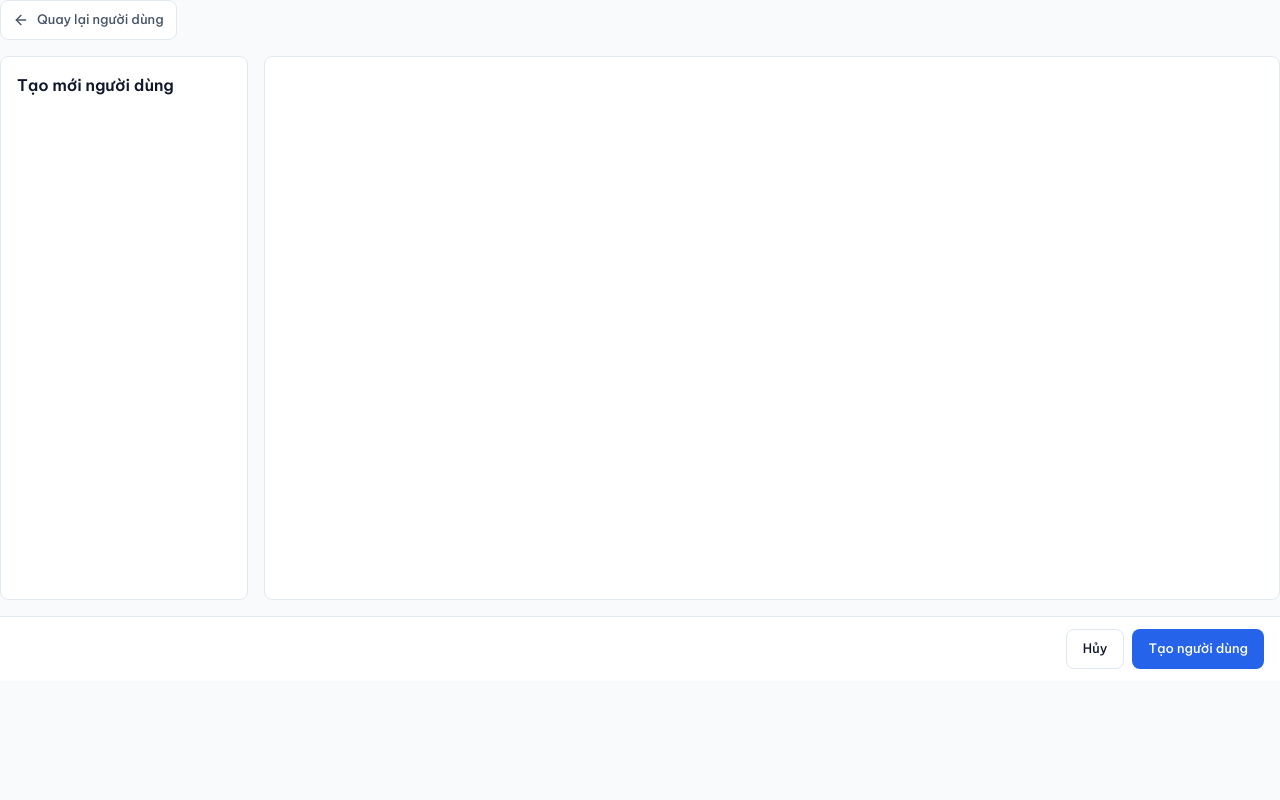
Test: NewPage (/new) › lỗi không phải Error → thông báo tiếng Việt mặc định
The image size is (1280, 800).
Click the button "Tạo người dùng" at point(1198, 649), box [1132,629,1264,669]
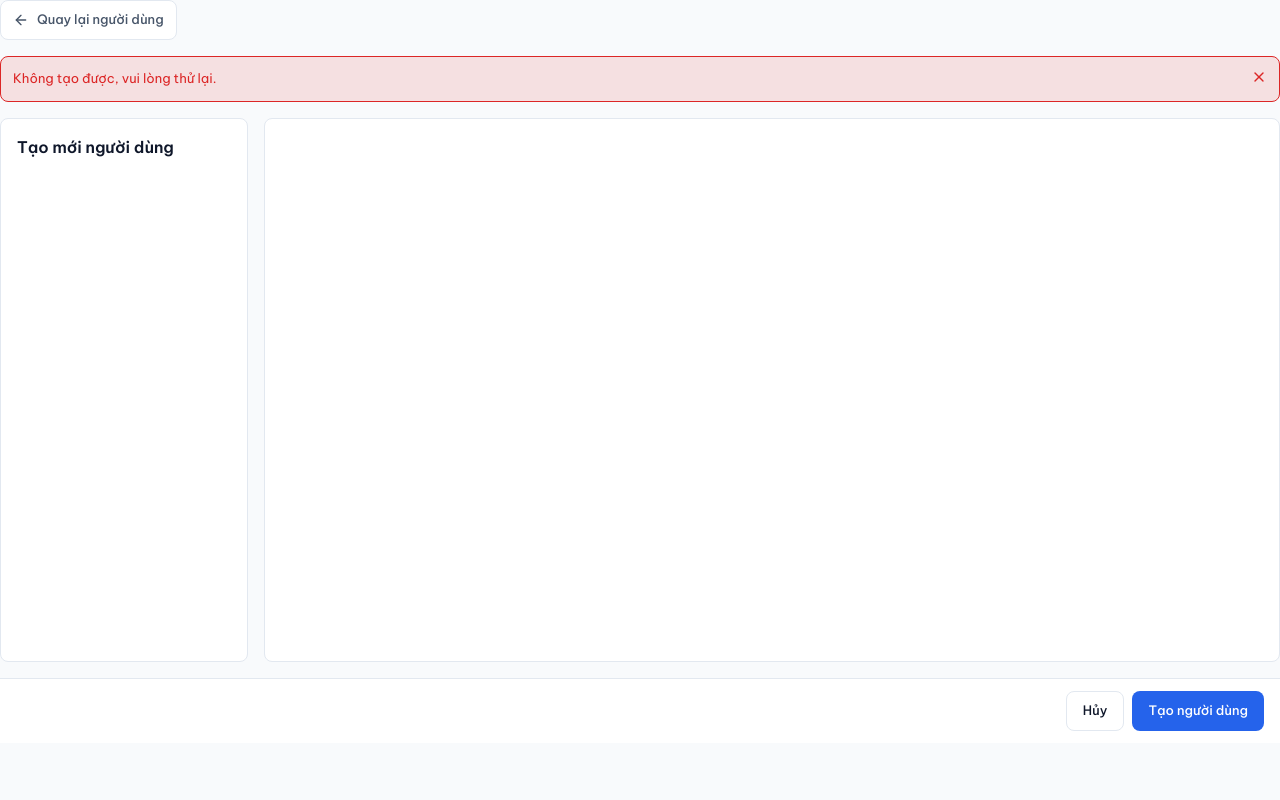
Expected: the message reads "Không tạo được, vui lòng thử lại.", [13,70,216,86]
